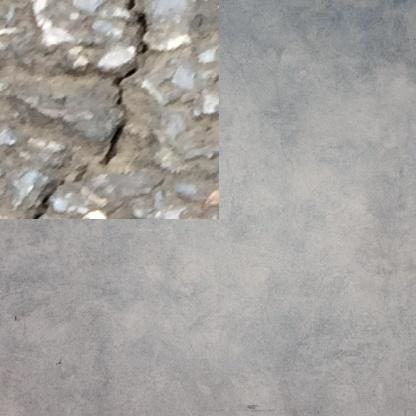Cracks: (109, 0, 139, 52), (90, 108, 119, 155), (27, 164, 61, 202), (103, 60, 129, 99)
